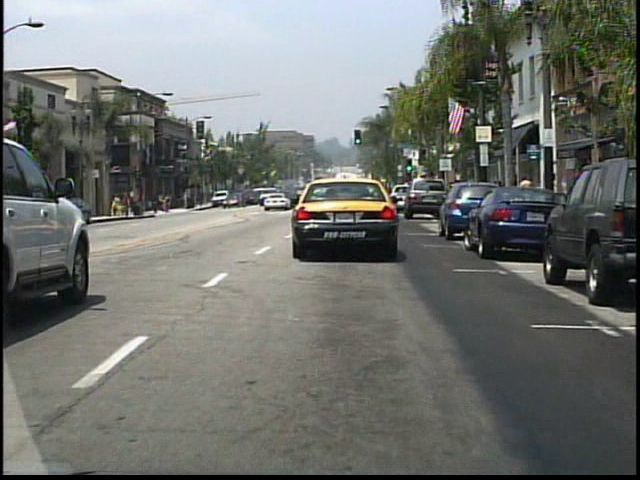person: (517, 173, 534, 214), (239, 187, 249, 209), (145, 190, 154, 213)
